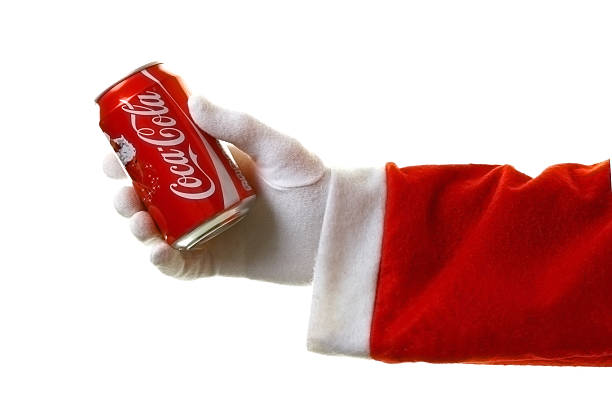coke: (92, 61, 258, 252)
